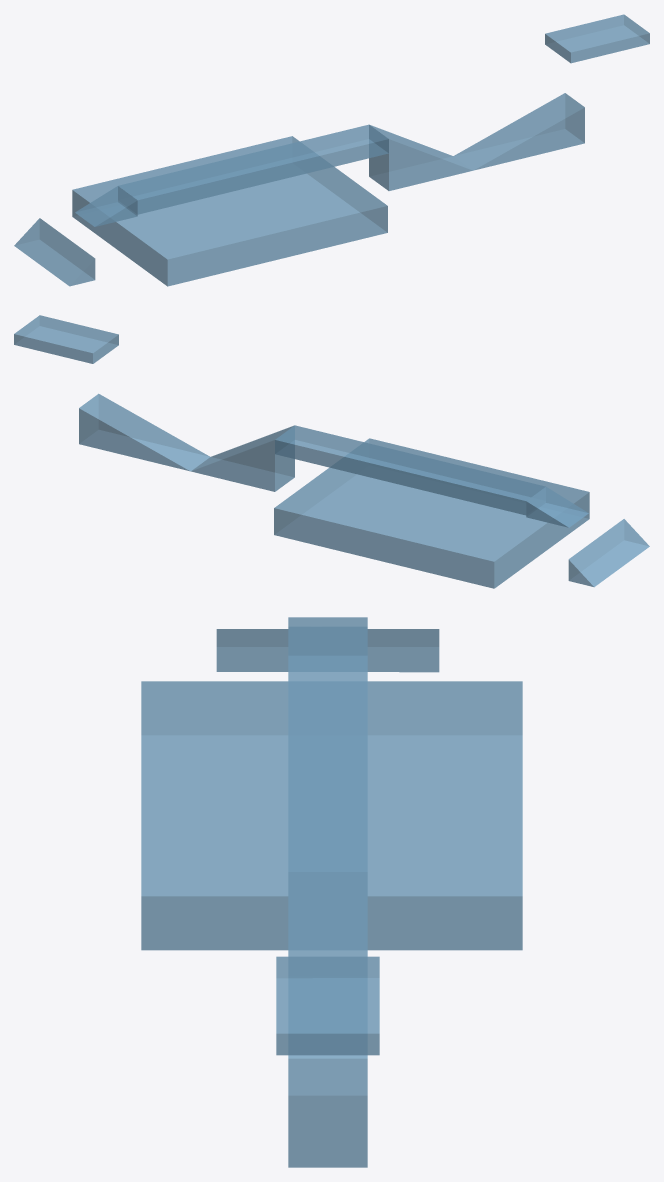
The model's file is RidgebackWindows.obj.
3 renders of one model, top to bottom at view 1: azimuth 30°, elevation 25°; view 2: azimuth 150°, elevation 25°; view 3: azimuth 270°, elevation 25°, orthographic. The views are drawn at different scales.
Parts seen in each view (by area): view 1: Window5, Window4, Window3, Window2, Window1, Wedge2, Wedge1; view 2: Window5, Window4, Window3, Window2, Window1, Wedge2, Wedge1; view 3: Window5, Window4, Window1, Window3, Window2, Wedge2, Wedge1.
Boxes of the visible parts, x1,y1,x2,y2 form: Window5: (72, 136, 387, 286); Window4: (118, 124, 388, 214); Window3: (453, 93, 584, 170); Window2: (369, 124, 472, 190); Window1: (545, 14, 649, 63); Wedge2: (14, 218, 95, 286); Wedge1: (75, 186, 137, 226); Window5: (274, 438, 589, 588); Window4: (275, 425, 545, 515); Window3: (79, 393, 209, 471); Window2: (191, 425, 294, 491); Window1: (14, 315, 118, 363); Wedge2: (568, 519, 649, 587); Wedge1: (526, 487, 588, 527); Window5: (141, 681, 522, 950); Window4: (288, 626, 367, 900); Window1: (276, 956, 379, 1055); Window3: (288, 1058, 367, 1167); Window2: (288, 872, 367, 1058); Wedge2: (216, 629, 439, 672); Wedge1: (288, 617, 367, 655).
Size of the model in its own units: 43.2 by 7.12 by 11.99.
